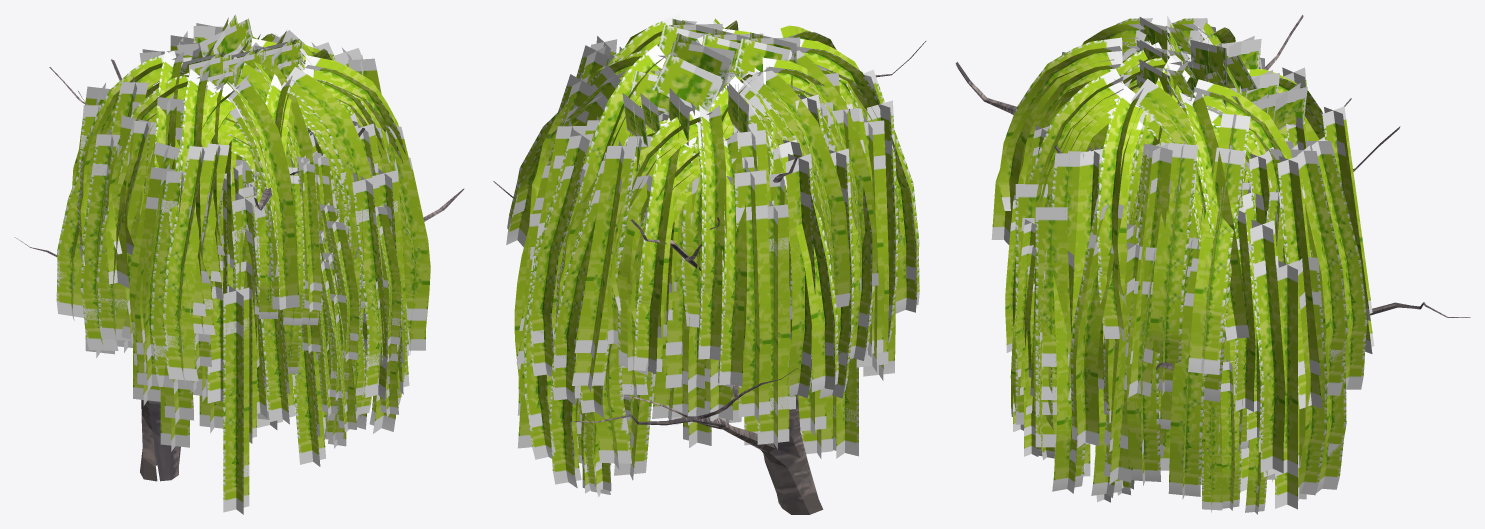
Rendered from willow_Fix.fbx.
3 views of the same model, side by side, from view 1: azimuth 30°, elevation 25°; view 2: azimuth 150°, elevation 25°; view 3: azimuth 270°, elevation 25° (orthographic). The views are drawn at different scales.
Parts seen in each view (by area): view 1: willow_leaf, willow_tree; view 2: willow_leaf, willow_tree; view 3: willow_leaf, willow_tree.
Boxes of the visible parts, <box> form: willow_leaf: <box>56,14,430,514</box>; willow_tree: <box>14,59,464,481</box>; willow_leaf: <box>506,14,919,497</box>; willow_tree: <box>493,41,925,514</box>; willow_leaf: <box>991,16,1374,514</box>; willow_tree: <box>955,15,1470,369</box>.
Size of the model in its own units: 218 by 240 by 249.
